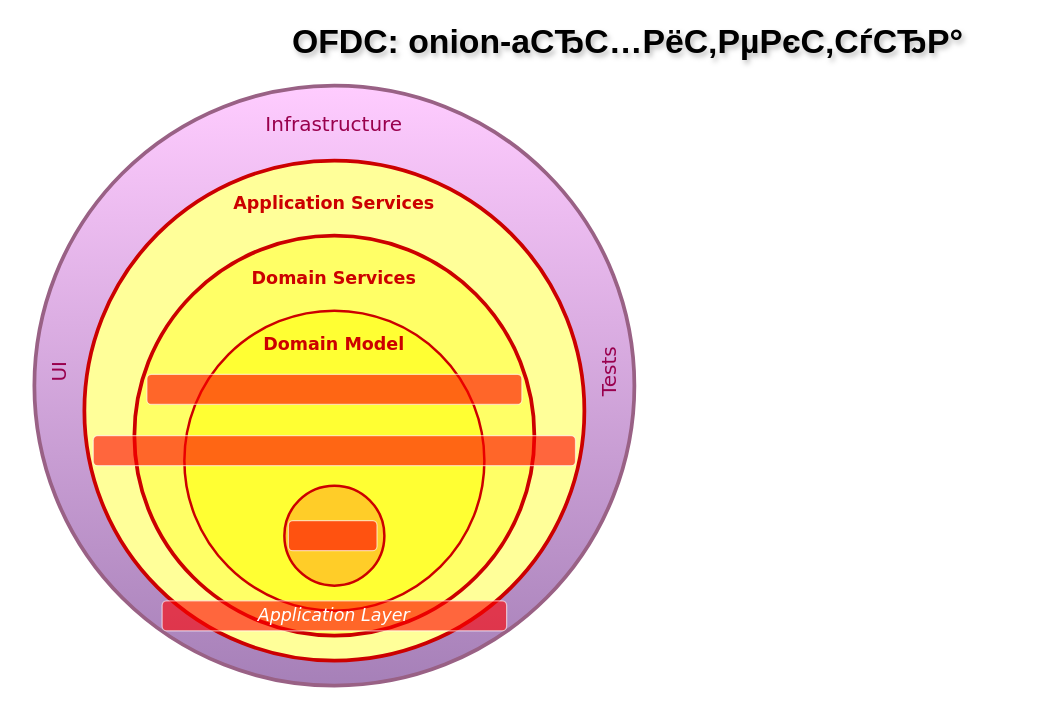
Some shapes in this 1055 by 719 pixel diagram are drawn without their labels. The centre of each missing label's shape, as x and y in pixels:
"Application Core Layer" goes at [334,450].
"Domain Layer" goes at [334,388].
"Kernel" goes at [332,535].
